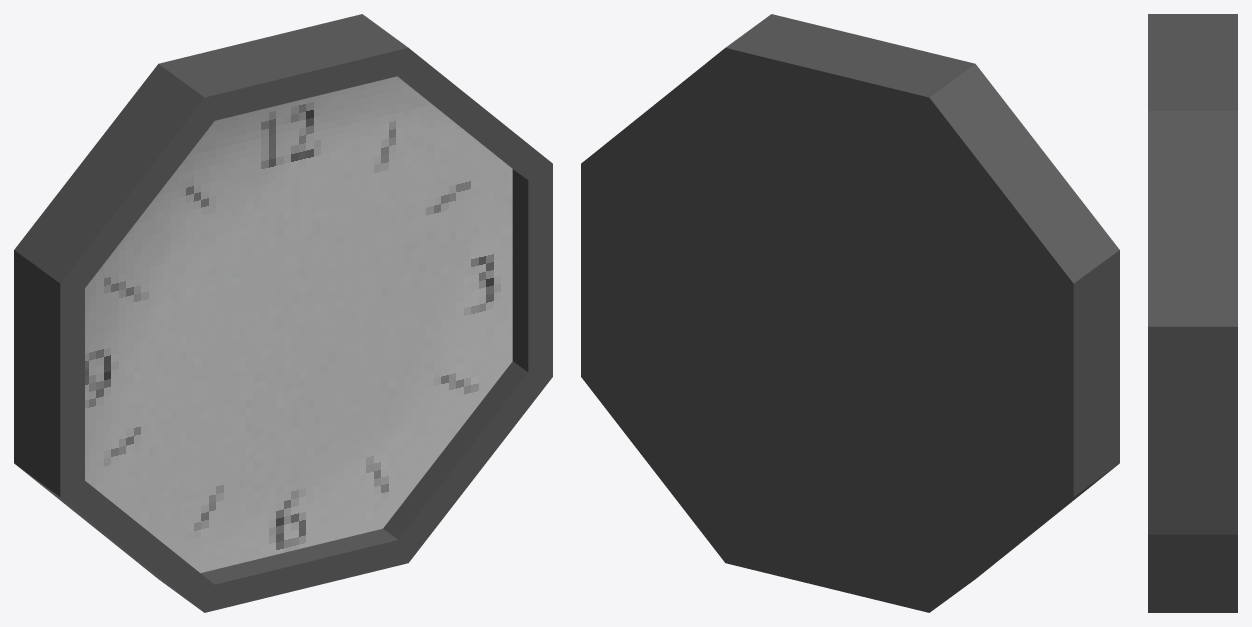
Rendered from Clock.fbx.
3 renders of one model, left to right at view 1: azimuth 30°, elevation 25°; view 2: azimuth 150°, elevation 25°; view 3: azimuth 270°, elevation 25°, orthographic. The views are drawn at different scales.
Parts seen in each view (by area): view 1: Cylinder.009; view 2: Cylinder.009; view 3: Cylinder.009.
Boxes of the visible parts, <box> form: Cylinder.009: <box>14,14,552,612</box>; Cylinder.009: <box>581,14,1119,612</box>; Cylinder.009: <box>1148,14,1237,612</box>.
Bounding box in the file's own units: 55.43 × 55.43 × 9.
Materials: 2 (1 with a texture image).
